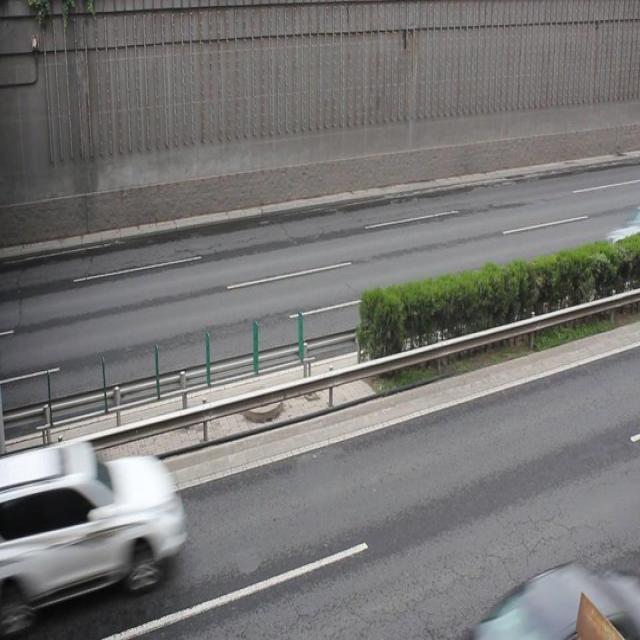car: (1, 442, 181, 621), (469, 554, 627, 640)
